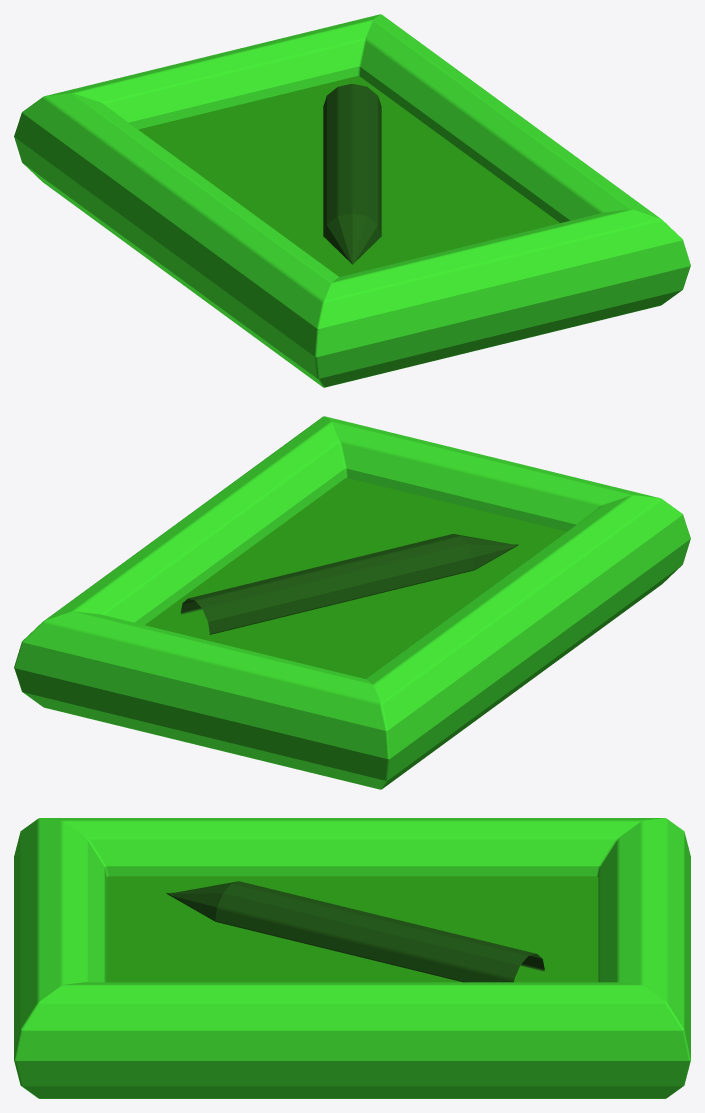
File: SM_Library_Symbol.fbx
The picture shows the model from 3 angles, top to bottom: view 1: azimuth 30°, elevation 25°; view 2: azimuth 150°, elevation 25°; view 3: azimuth 270°, elevation 25°; orthographic projection. The views are drawn at different scales.
Visible parts, largest first — view 1: SM_Library_Symbol; view 2: SM_Library_Symbol; view 3: SM_Library_Symbol.
Part boxes in pixels (left/top/right/bottom): SM_Library_Symbol: left=14, top=14, right=690, bottom=387; SM_Library_Symbol: left=14, top=416, right=690, bottom=789; SM_Library_Symbol: left=14, top=818, right=690, bottom=1098.
Size of the model in its own units: 7.65 by 1.93 by 10.66.
